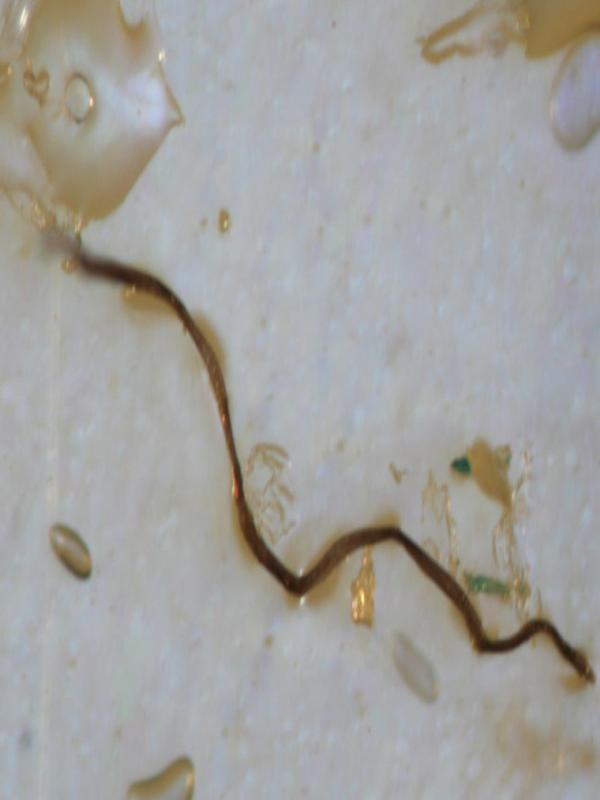microplastic: (1, 1, 595, 694)
